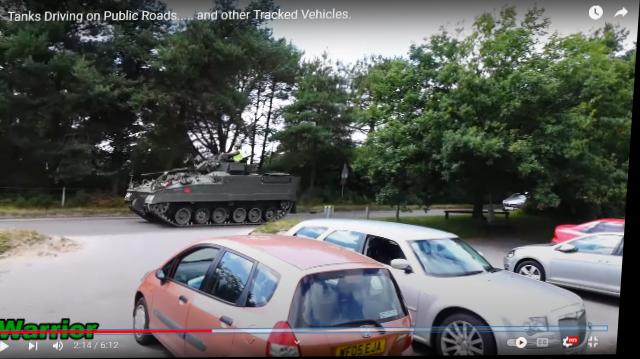tank: (143, 156, 305, 224)
